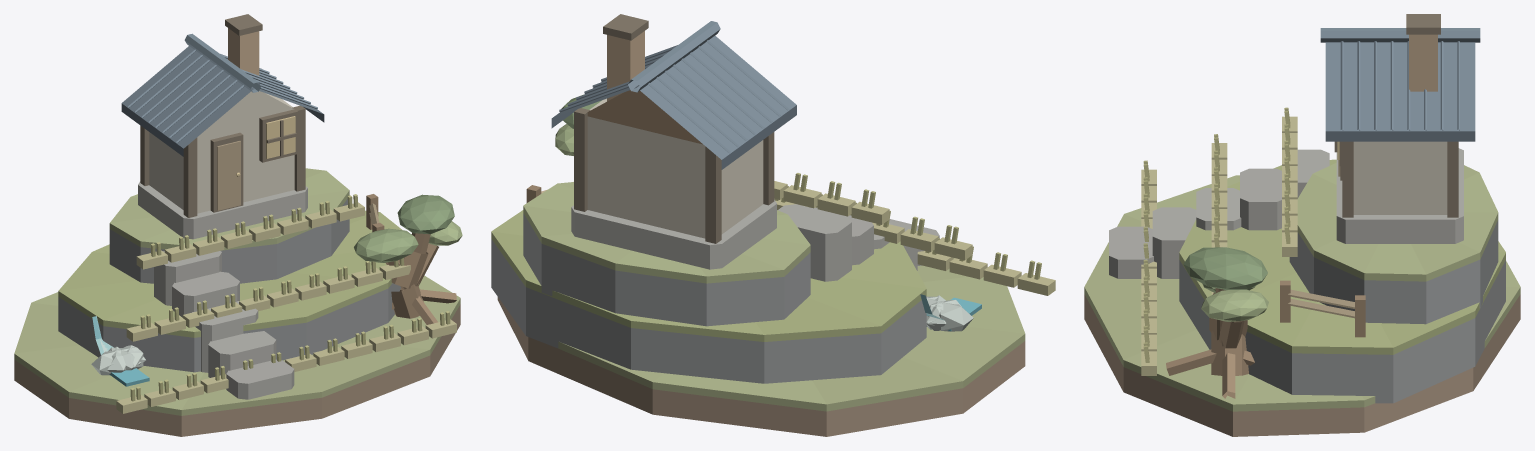
3 views of the same model, side by side, from view 1: azimuth 30°, elevation 25°; view 2: azimuth 150°, elevation 25°; view 3: azimuth 270°, elevation 25° (orthographic). The views are drawn at different scales.
Parts seen in each view (by area): view 1: S19; view 2: S19; view 3: S19.
Part boxes in pixels (box(x1,y1,x2,y2)): S19: box(14, 14, 462, 436); S19: box(491, 14, 1055, 436); S19: box(1084, 14, 1520, 436).
Size of the model in its own units: 4.88 by 3.31 by 3.9.
